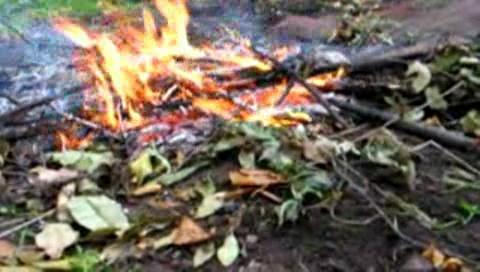fire: (67, 10, 339, 113)
